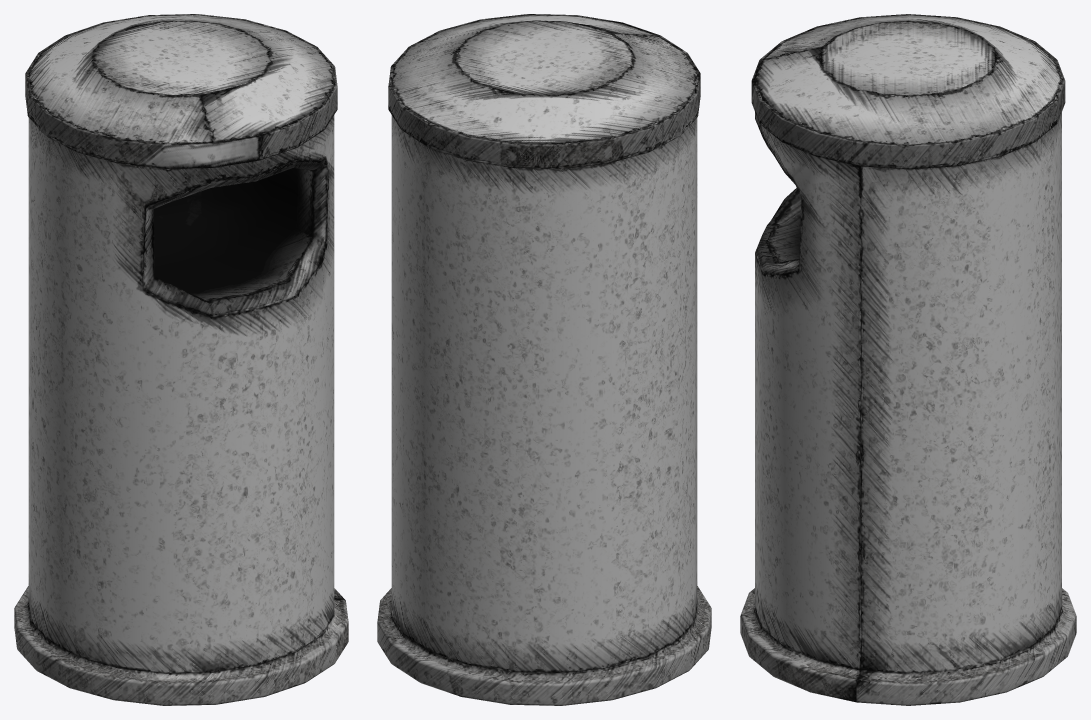
Rendered from trash.glb.
3 renders of one model, left to right at view 1: azimuth 30°, elevation 25°; view 2: azimuth 150°, elevation 25°; view 3: azimuth 270°, elevation 25°, orthographic.
Parts seen in each view (by area): view 1: trashcan; view 2: trashcan; view 3: trashcan.
Boxes of the visible parts, left/top/right/bottom form: trashcan: left=14, top=14, right=348, bottom=705; trashcan: left=377, top=14, right=711, bottom=705; trashcan: left=740, top=14, right=1076, bottom=705.
Size of the model in its own units: 0.6573 by 1.25 by 0.6573.
Materials: 1 (1 with a texture image).
